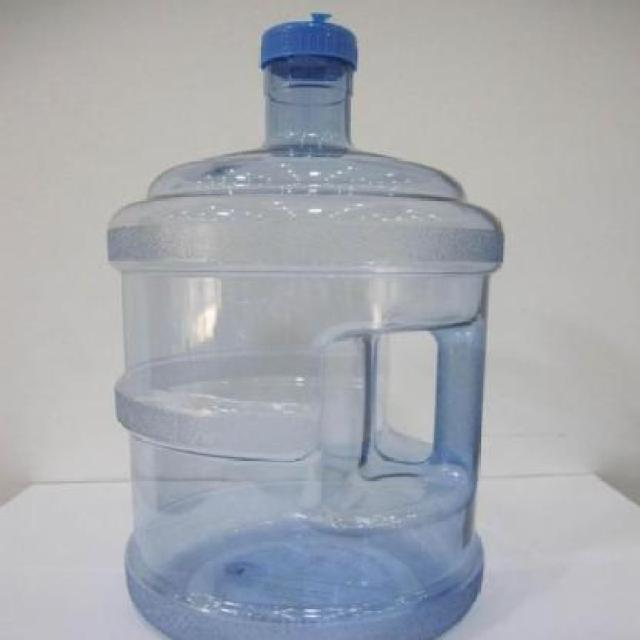coolerbottle: (91, 11, 511, 640)
